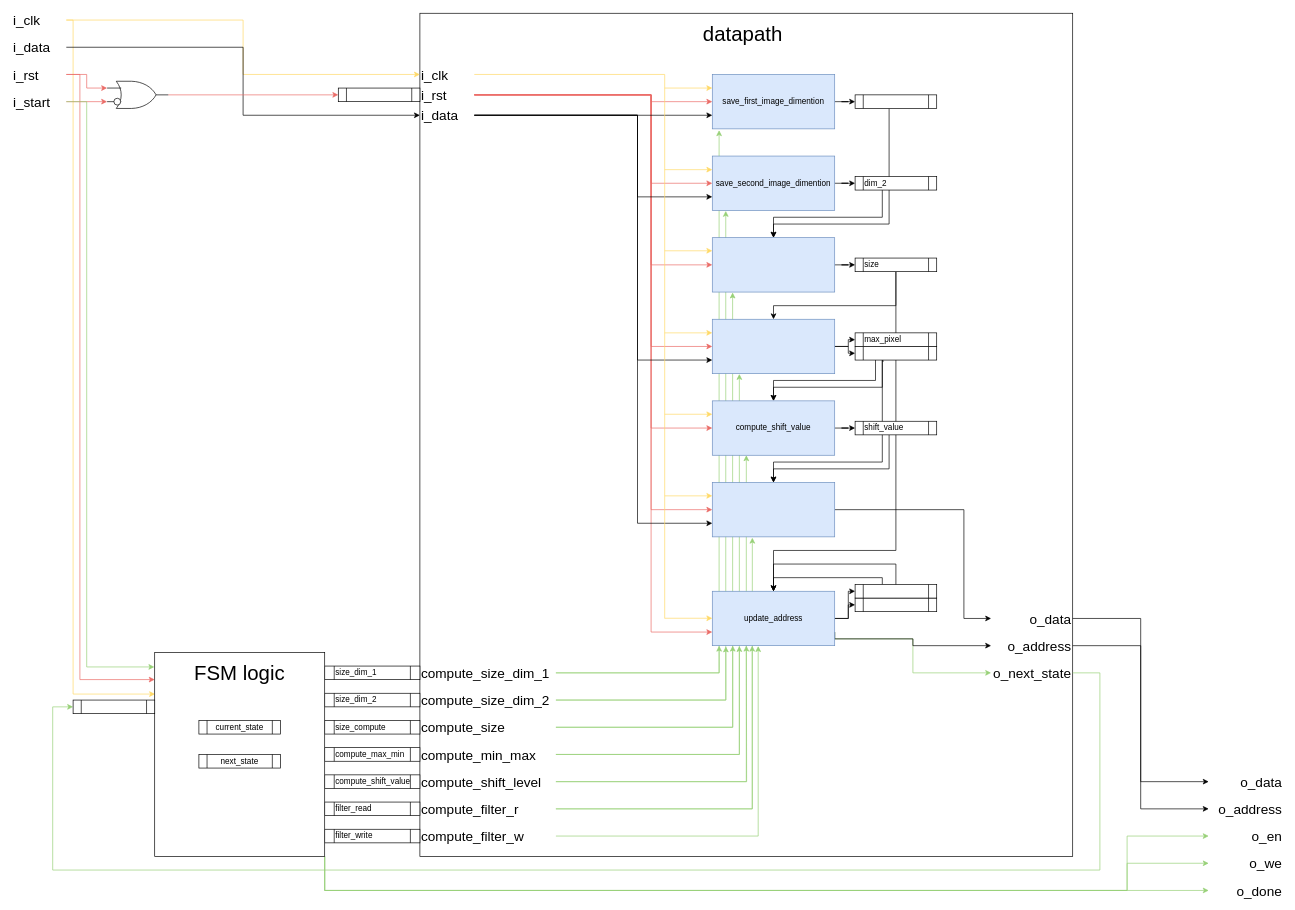
Some shapes in this 1295 by 910 pixel diagram are drawn without their labels. Each missing label, with the centre of its shape:
compute_filter_process: the point at 773,509
compute_image_size: the point at 773,264
compute_max_min_pixel: the point at 773,346
dim_1: the point at 895,101
min_pixel: the point at 895,353
next_state_ready: the point at 113,706
offset_f: the point at 895,591
offset_mms: the point at 895,604
rst_datapath: the point at 379,94
